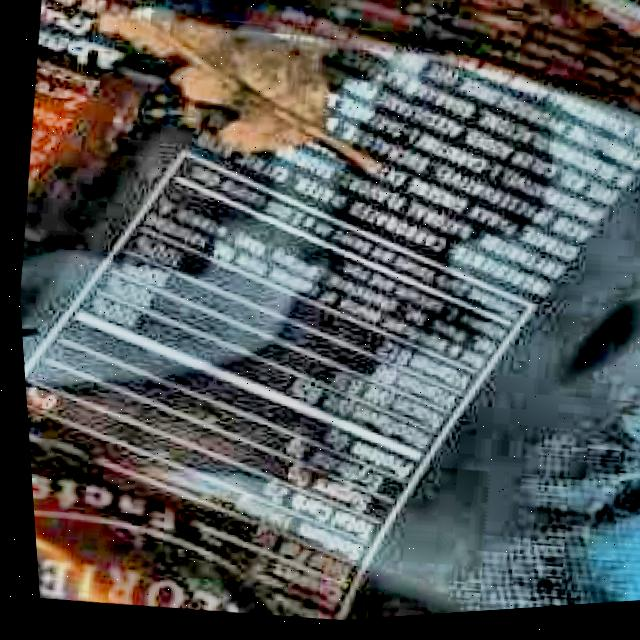metal: (16, 0, 640, 624)
